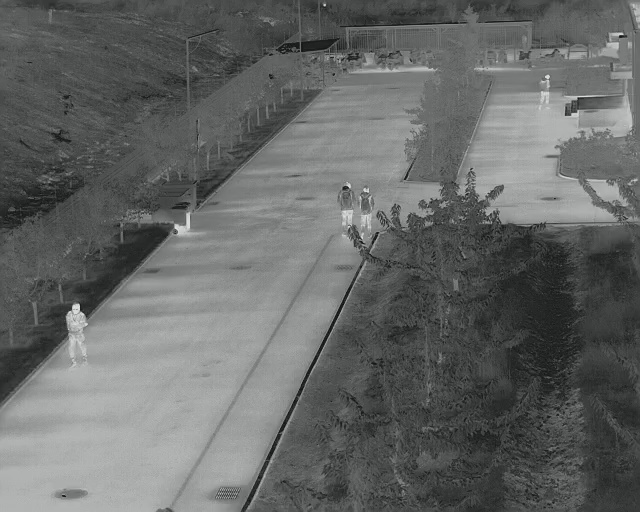person: (63, 301, 90, 371), (358, 185, 376, 240), (337, 180, 354, 238), (536, 73, 553, 113)
